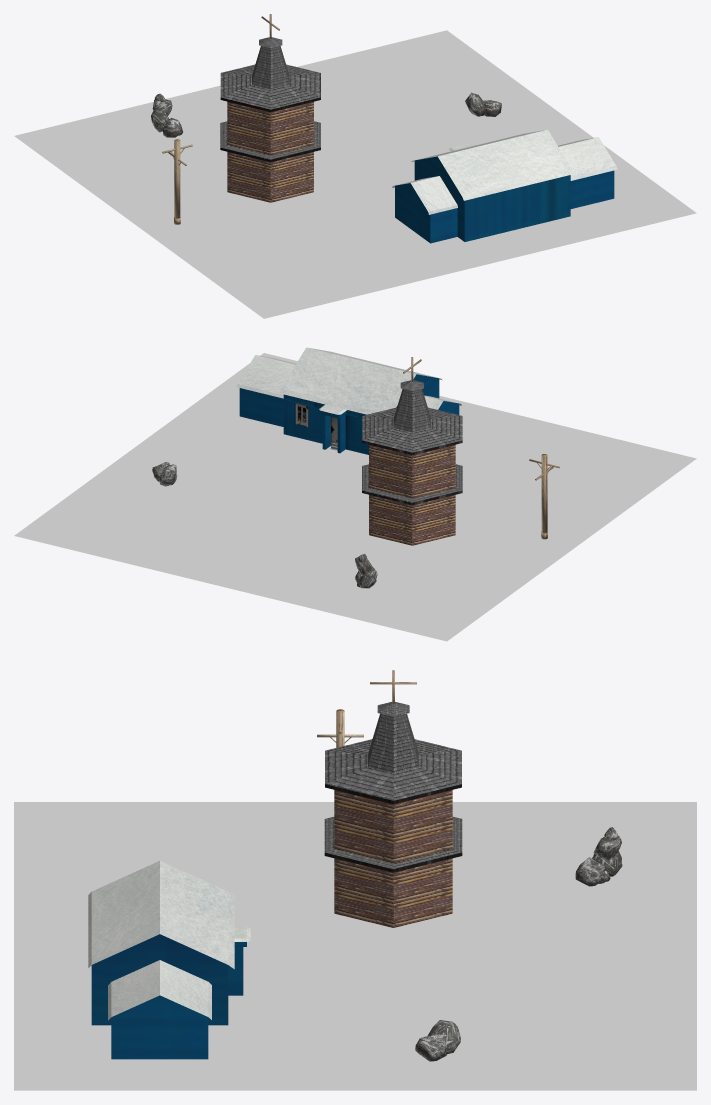
Rendered from escenario iglesia + chalet.glb.
3 renders of one model, top to bottom at view 1: azimuth 30°, elevation 25°; view 2: azimuth 150°, elevation 25°; view 3: azimuth 270°, elevation 25°, orthographic. The views are drawn at different scales.
Visible parts, largest first — view 1: Piso.col.005, Cuerpo Secundario 1.col.002, Piedra 5.col.002, Base Elec.001.col.005; view 2: Piso.col.005, Cuerpo Secundario 1.col.002, Piedra 5.col.002, Base Elec.001.col.005; view 3: Piso.col.005, Cuerpo Secundario 1.col.002, Piedra 5.col.002.
Boxes of the visible parts, x1,y1,x2,y2 form: Piso.col.005: (14, 30, 696, 318); Cuerpo Secundario 1.col.002: (220, 14, 617, 243); Piedra 5.col.002: (151, 92, 501, 137); Base Elec.001.col.005: (162, 139, 192, 224); Piso.col.005: (14, 353, 696, 641); Cuerpo Secundario 1.col.002: (236, 347, 462, 545); Piedra 5.col.002: (152, 462, 377, 588); Base Elec.001.col.005: (529, 454, 559, 539); Piso.col.005: (14, 802, 696, 1090); Cuerpo Secundario 1.col.002: (88, 670, 462, 1059); Piedra 5.col.002: (415, 827, 622, 1061).
Bounding box in the file's own units: 10 × 3.72 × 10.
8 materials, 7 textured.
